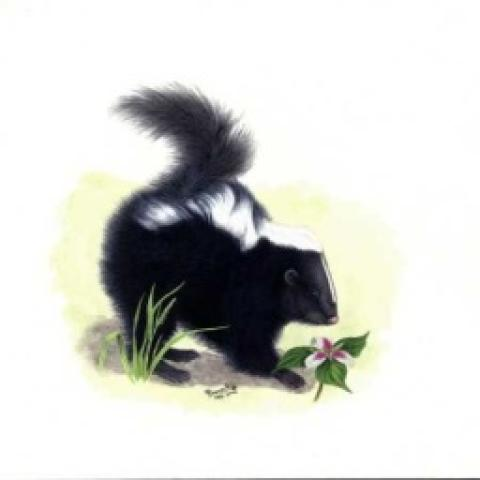small_animal: (96, 79, 341, 392)
